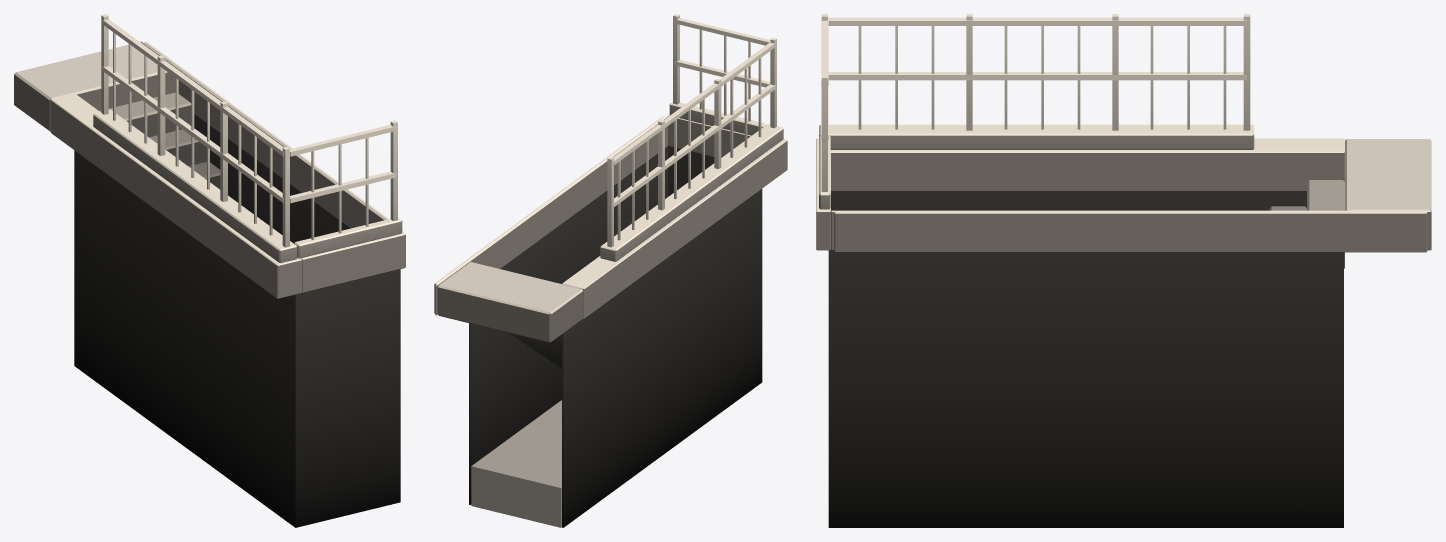
File: SM_VKI_Stair_Down_150x450_StoneL.fbx
3 renders of one model, left to right at view 1: azimuth 30°, elevation 25°; view 2: azimuth 150°, elevation 25°; view 3: azimuth 270°, elevation 25°, orthographic. The views are drawn at different scales.
Visible parts, largest first — view 1: SM_VKI_Stair_Down_150x450_StoneL.001; view 2: SM_VKI_Stair_Down_150x450_StoneL.001; view 3: SM_VKI_Stair_Down_150x450_StoneL.001.
Part boxes in pixels (x1,y1,x2,y2): SM_VKI_Stair_Down_150x450_StoneL.001: (14, 14, 405, 527); SM_VKI_Stair_Down_150x450_StoneL.001: (434, 14, 787, 527); SM_VKI_Stair_Down_150x450_StoneL.001: (816, 14, 1431, 527).
Bounding box in the file's own units: 1.21 × 3.38 × 4.22.
